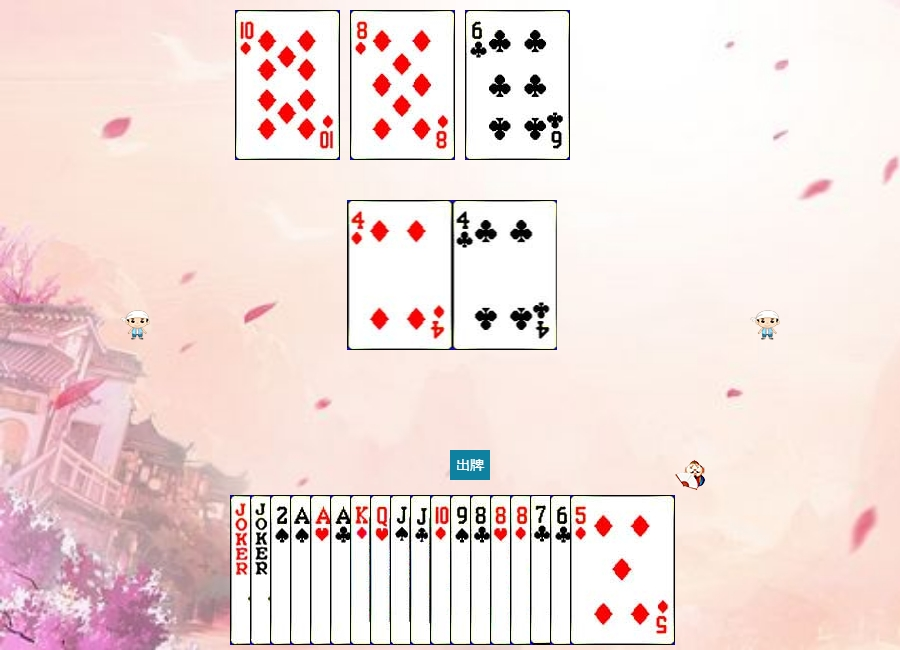10~1: (235, 10, 340, 160), (430, 495, 535, 645)
11~2: (410, 495, 515, 645)
11~4: (390, 495, 495, 645)
12~3: (370, 495, 475, 645)
13~1: (350, 495, 455, 645)
14~2: (330, 495, 435, 645)
14~3: (310, 495, 415, 645)
14~4: (290, 495, 395, 645)
15~4: (270, 495, 375, 645)
17~3: (250, 495, 355, 645)
18~4: (230, 495, 335, 645)
4~1: (348, 200, 453, 350)
4~2: (453, 200, 558, 350)
5~1: (570, 495, 675, 645)
6~2: (465, 10, 570, 160), (550, 495, 655, 645)
7~2: (530, 495, 635, 645)
8~1: (350, 10, 455, 160), (510, 495, 615, 645)
8~2: (470, 495, 575, 645)
8~3: (490, 495, 595, 645)
9~4: (450, 495, 555, 645)
